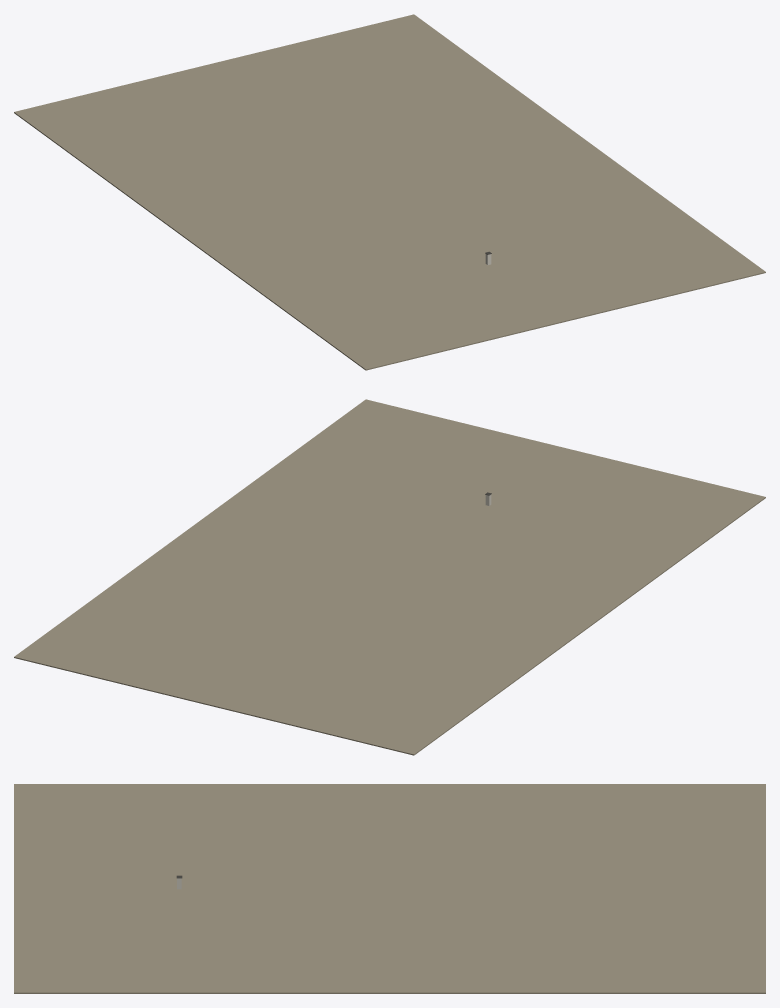
Rendered from fort_dearborn_parade__parade_1816.glb.
The picture shows the model from 3 angles, top to bottom: view 1: azimuth 30°, elevation 25°; view 2: azimuth 150°, elevation 25°; view 3: azimuth 270°, elevation 25°; orthographic projection. The views are drawn at different scales.
Parts seen in each view (by area): view 1: fort_dearborn_parade__parade_1816; view 2: fort_dearborn_parade__parade_1816; view 3: fort_dearborn_parade__parade_1816.
Boxes of the visible parts, left/top/right/bottom form: fort_dearborn_parade__parade_1816: left=14, top=14, right=765, bottom=370; fort_dearborn_parade__parade_1816: left=14, top=399, right=765, bottom=755; fort_dearborn_parade__parade_1816: left=14, top=784, right=765, bottom=993.
Size of the model in its own units: 21.8 by 0.6282 by 33.2.
